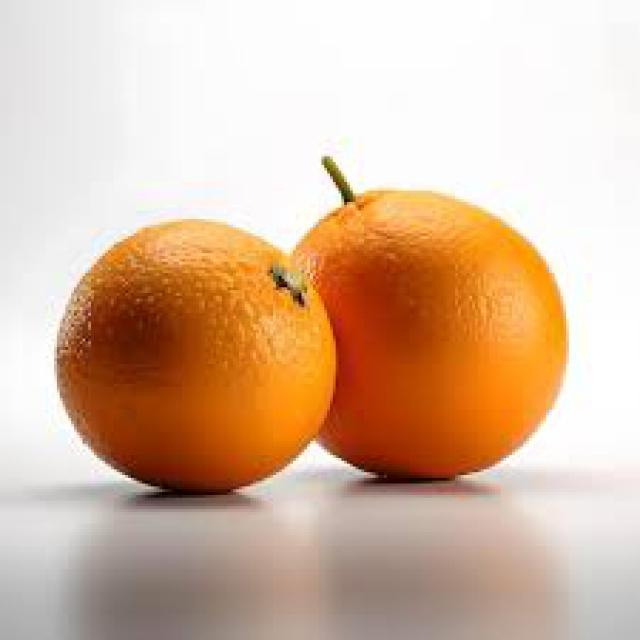orange: (288, 166, 566, 479), (53, 218, 334, 493)
